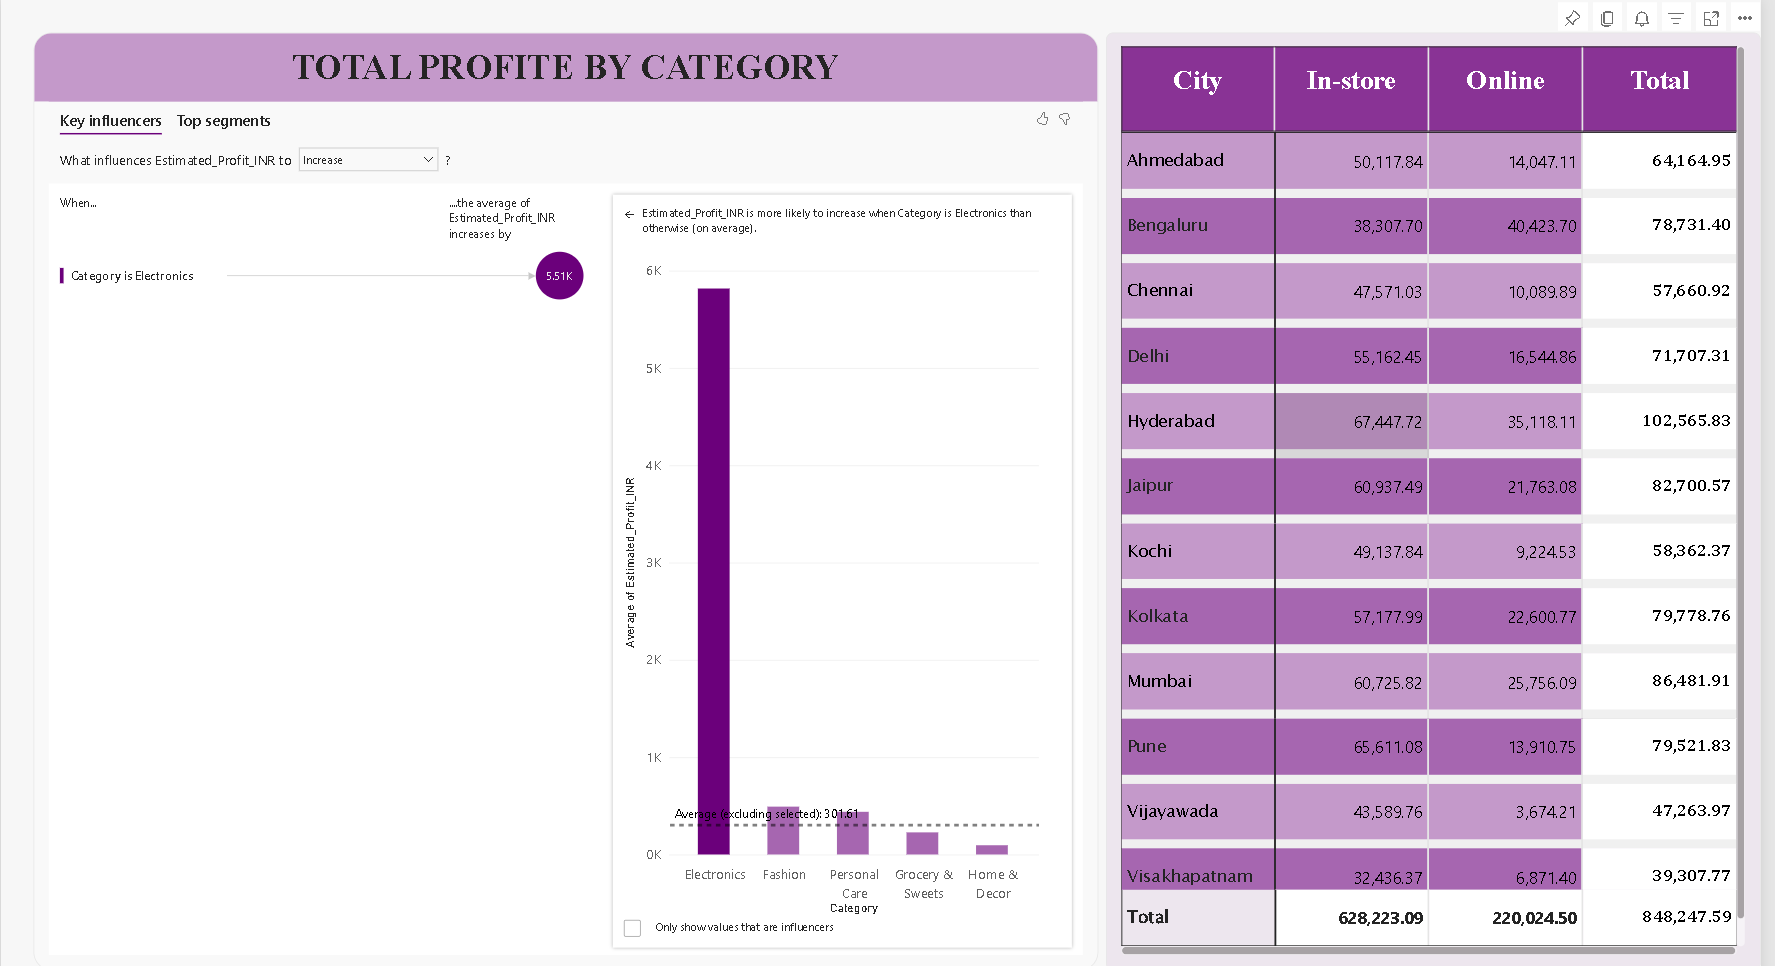

This screenshot's page, from the dashboard's own definition file:
{"tool":"powerbi","page":{"name":"Page 3","canvas":[1920,1080],"ordinal":2},"visuals":[{"type":"keyDriversVisual","title":"TOTAL PROFITE BY CATEGORY","fields":{"ExplainBy":["Diwali_Sales.Category","Diwali_Sales.State"],"Target":["Diwali_Sales.Estimated_Profit_INR"]},"box":[35,35,1161.4,1023.3],"z":0},{"type":"pivotTable","fields":{"Columns":["Diwali_Sales.Sales_Channel"],"Rows":["Diwali_Sales.City"],"Values":["Sum(Diwali_Sales.Estimated_Profit_INR)"]},"box":[1205.5,35,714.1,1023.3],"z":1000}]}

Visuals, with their boxes on the page's 1920x1080 design canvas (x1, y1, x2, y2). These are canvas units, not pixel positions in the 1775x966 screenshot, which may show the page scaled, cropped or inside an application window:
"TOTAL PROFITE BY CATEGORY" keyDriversVisual: bbox(35, 35, 1196, 1058)
pivotTable - Diwali_Sales.Sales_Channel x Diwali_Sales.City: bbox(1206, 35, 1920, 1058)
